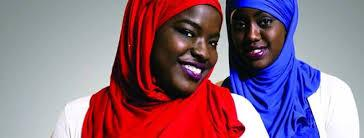No Mask: (145, 2, 227, 116), (228, 4, 306, 99)
